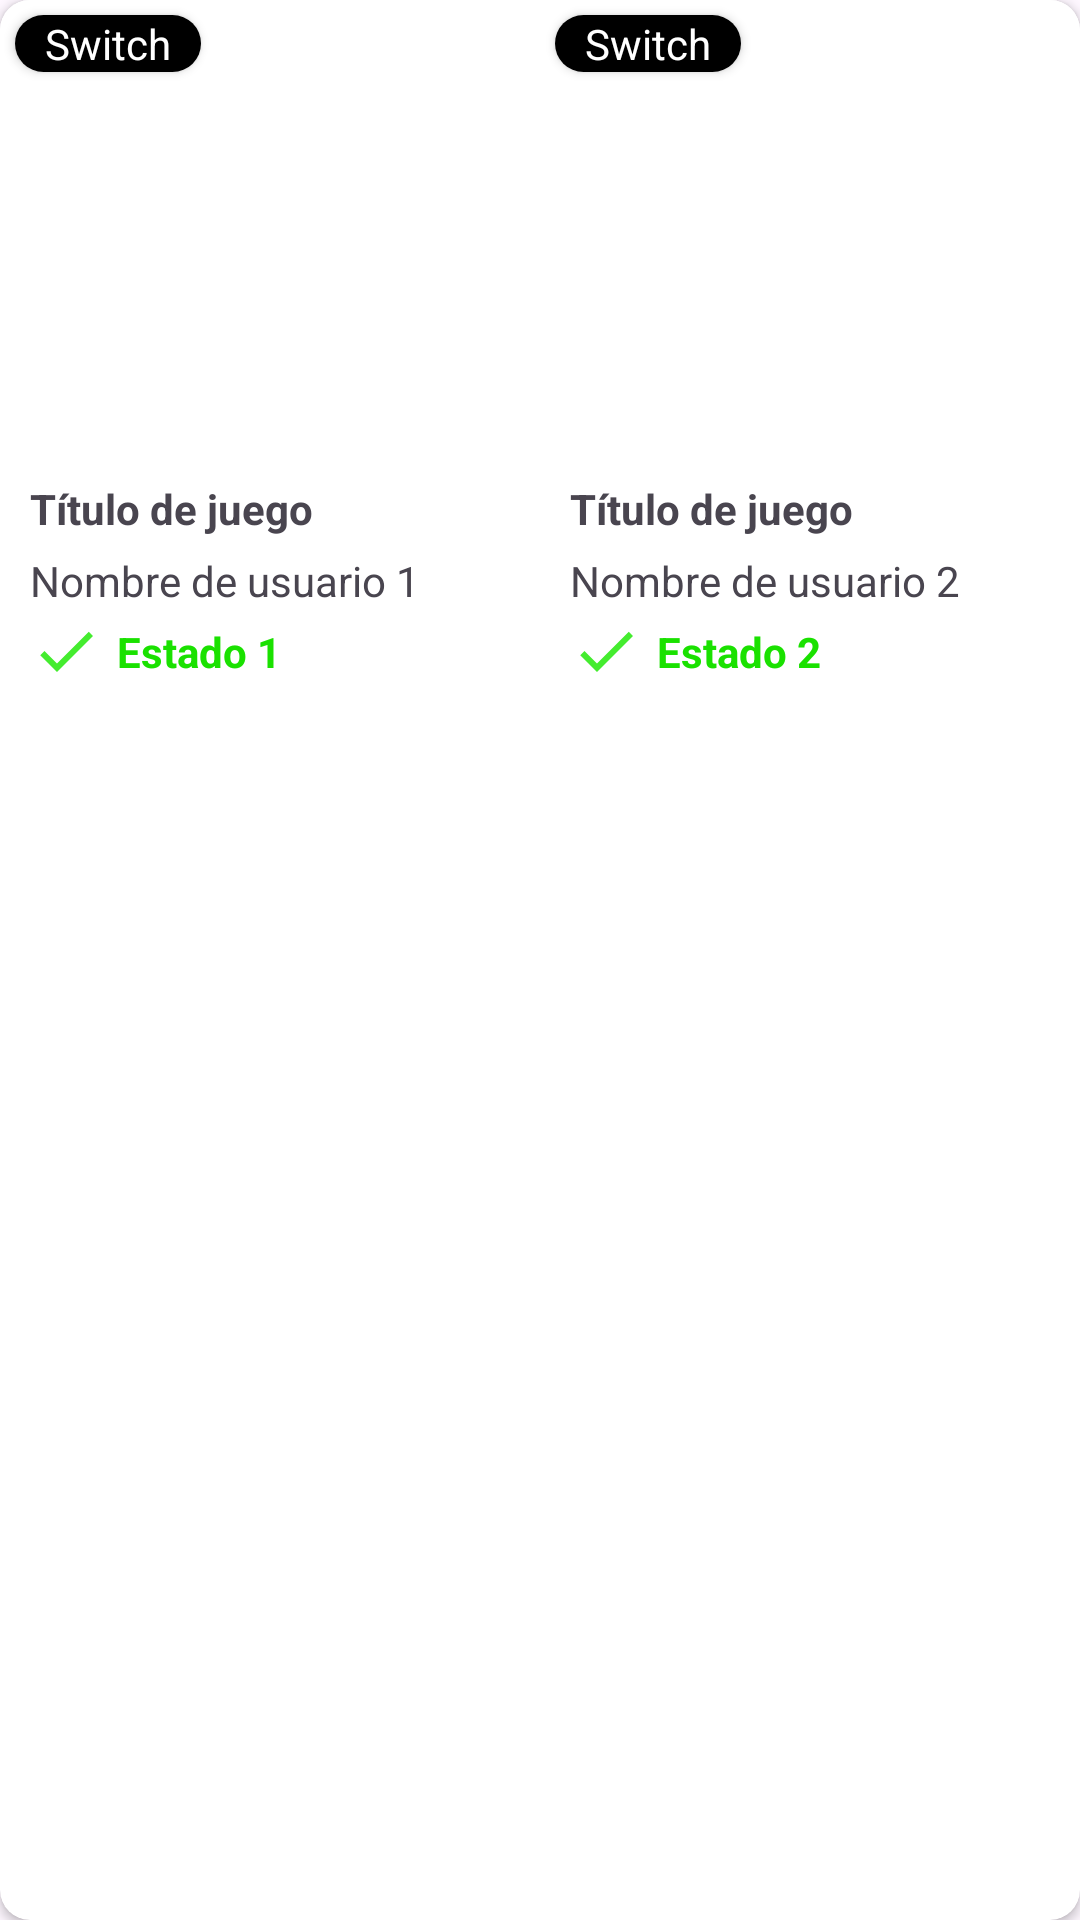

Named icons in this screenshot (1080w x 1920h) and their centers, [x,y]:
check: [66,652], [606,652]
